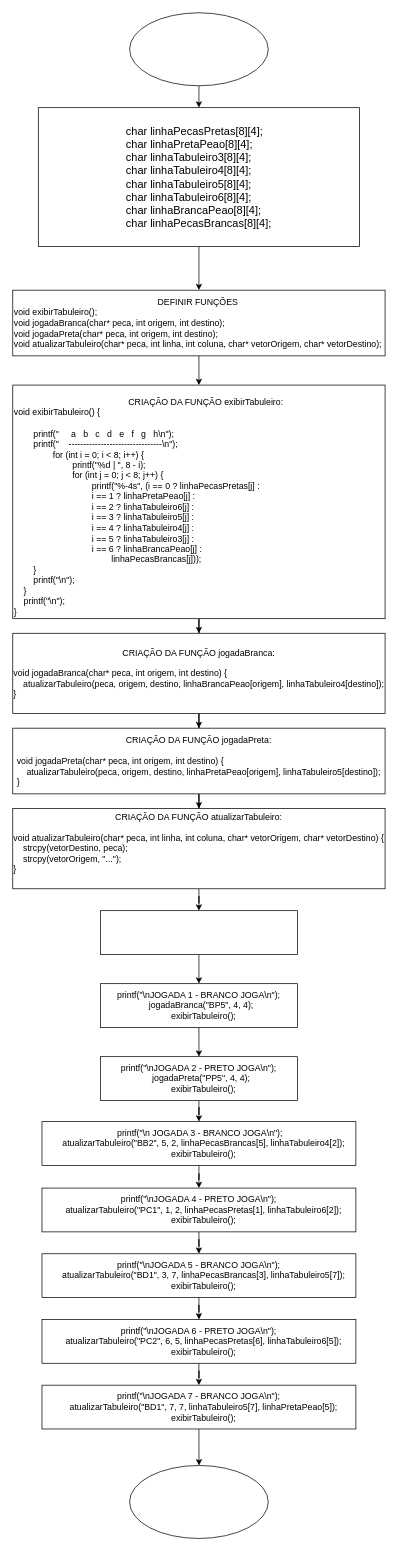
This 398x1551 diagram has some shape labels left out. The box of each missing label's shape, as (x1, y1, x2, y2) in pixels:
FIM: (129, 1465, 268, 1538)
MODULARIZAÇÃO DO XEQUE-PASTOR: (129, 12, 268, 86)
printf("TABULEIRO INICIAL\n"); exibirTabuleiro();: (100, 910, 297, 954)
